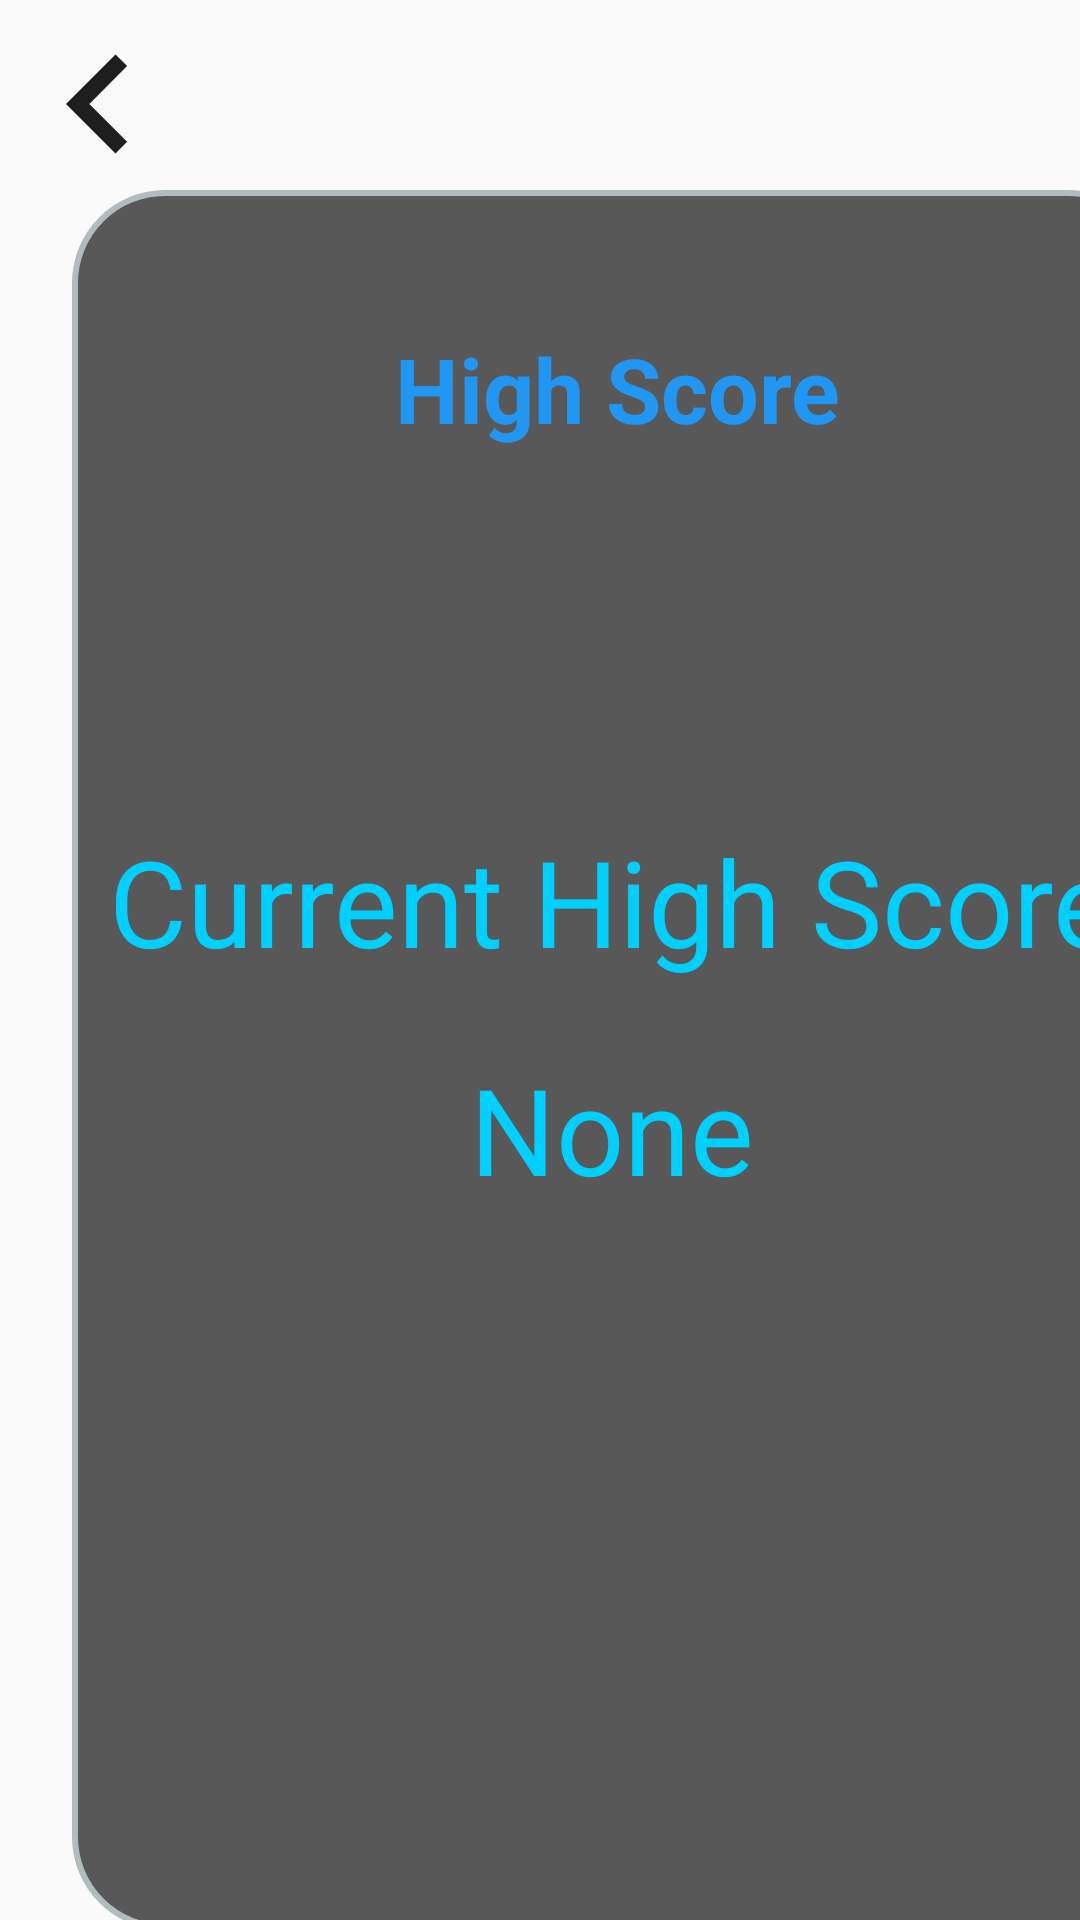

Icon click points for this 1080px×1920px phone screenshot, format (x=x, y=y):
keyboard arrow left trueblack: (x=96, y=104)
